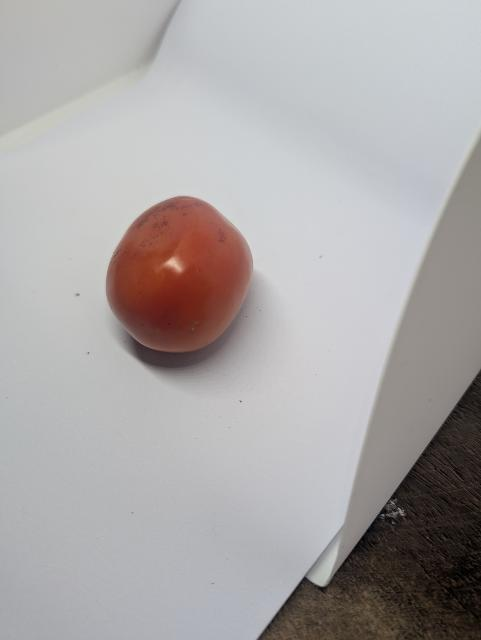red: (103, 194, 256, 356)
